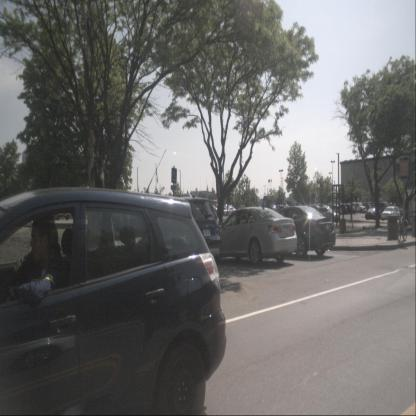movable_object-trafficcone: (351, 219, 354, 228)
vehicle-bicycle: (396, 214, 408, 242)
vehicle-car: (0, 186, 227, 416), (212, 207, 298, 265), (155, 196, 221, 260), (266, 206, 336, 258), (314, 207, 340, 224), (381, 207, 400, 221), (374, 201, 391, 216), (365, 208, 383, 220), (326, 204, 342, 216), (334, 202, 348, 214), (342, 204, 356, 214), (223, 207, 237, 216)
vehicle-truck: (349, 202, 366, 214)
